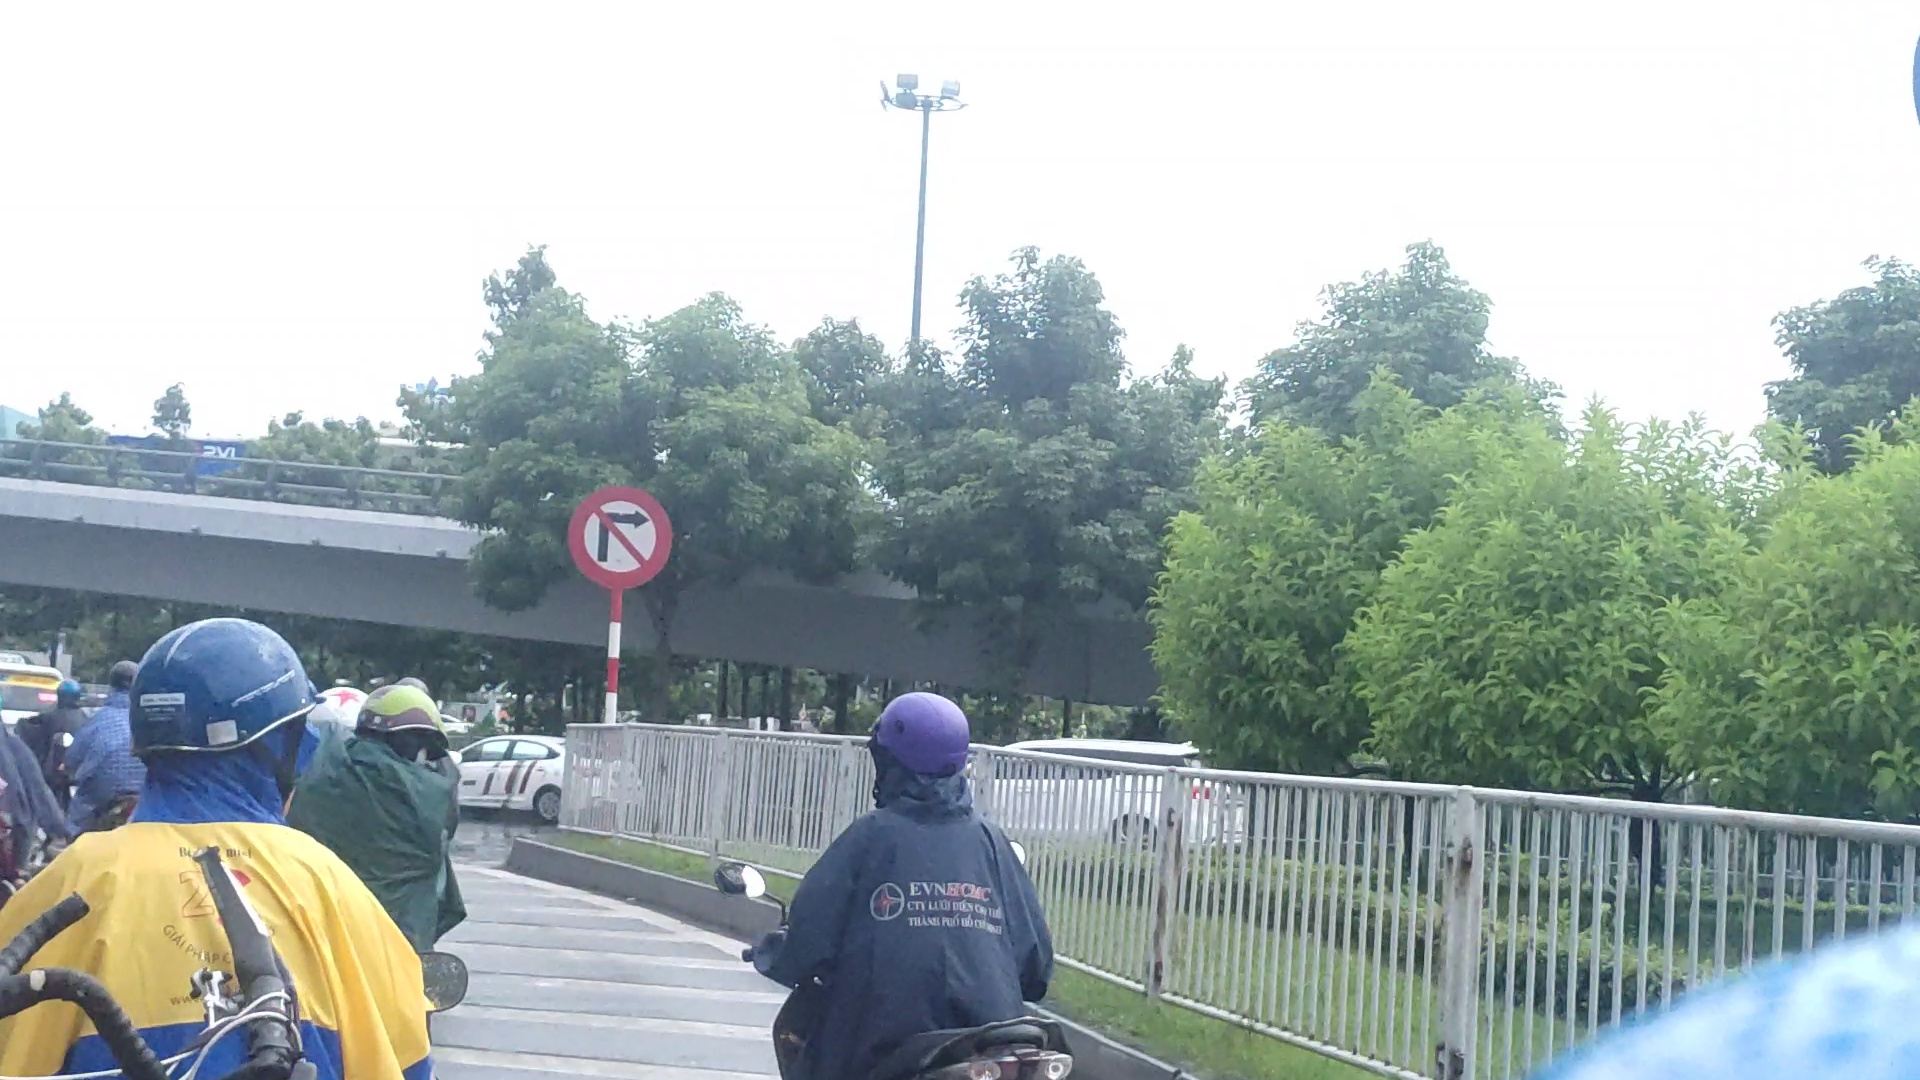P.123b: (568, 483, 675, 589)
